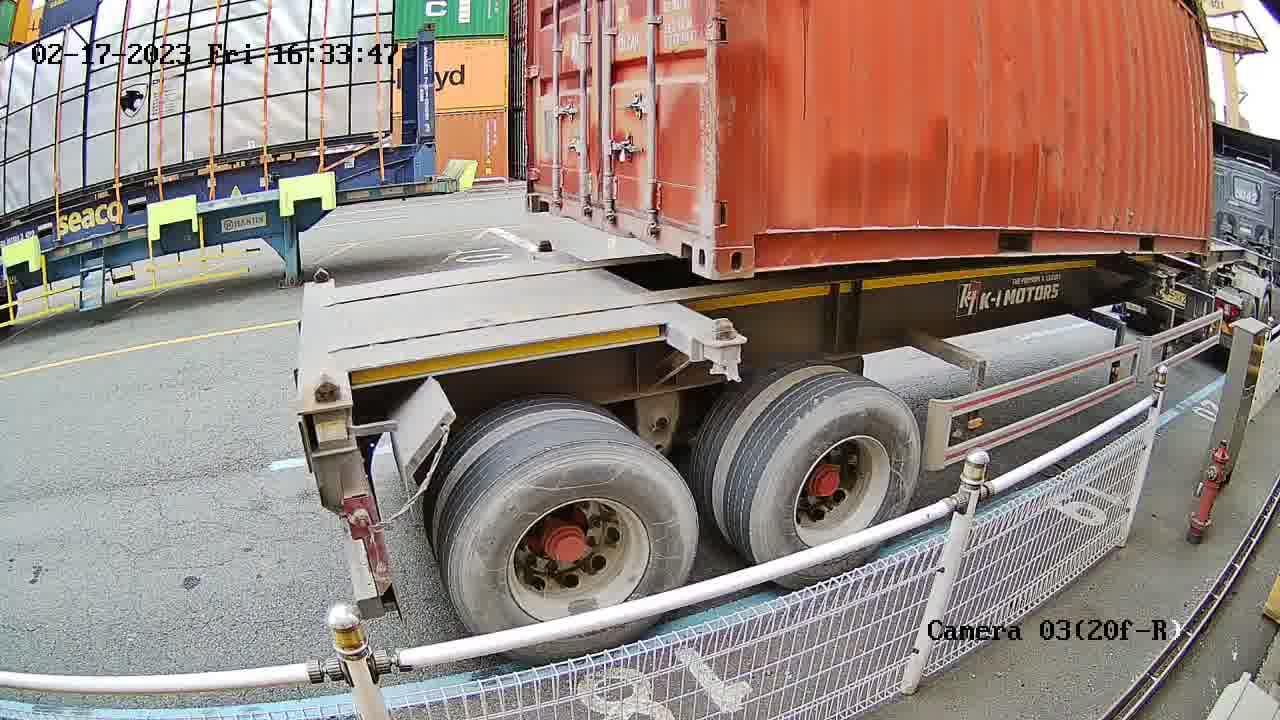Chassis: (528, 247, 744, 360)
Cone: (705, 317, 744, 387), (529, 238, 559, 257)
Hole_L: (714, 196, 798, 277), (523, 161, 565, 220)
Hole_R: (661, 186, 715, 282)
Tire: (453, 447, 695, 660), (753, 395, 921, 587)
